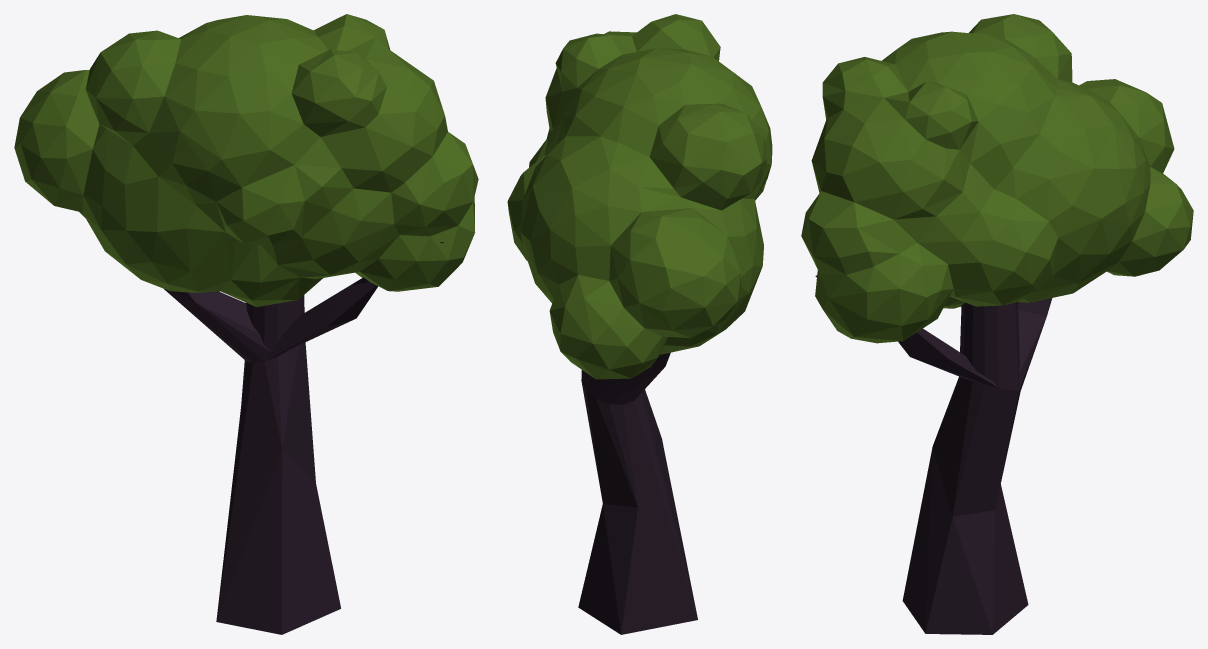
File: tree.fbx
3 views of the same model, side by side, from view 1: azimuth 30°, elevation 25°; view 2: azimuth 150°, elevation 25°; view 3: azimuth 270°, elevation 25° (orthographic). The views are drawn at different scales.
Parts seen in each view (by area): view 1: Sphere.005, Cylinder.002; view 2: Sphere.005, Cylinder.002; view 3: Sphere.005, Cylinder.002.
Part boxes in pixels (x1=…): Sphere.005: x1=14, y1=14, x2=478, y2=306; Cylinder.002: x1=164, y1=242, x2=444, y2=634; Sphere.005: x1=507, y1=14, x2=772, y2=379; Cylinder.002: x1=578, y1=352, x2=697, y2=634; Sphere.005: x1=801, y1=14, x2=1193, y2=343; Cylinder.002: x1=815, y1=275, x2=1052, y2=634.
Bounding box in the file's own units: 576 × 997 × 636.
